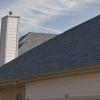Chimney: (1, 6, 32, 71)
